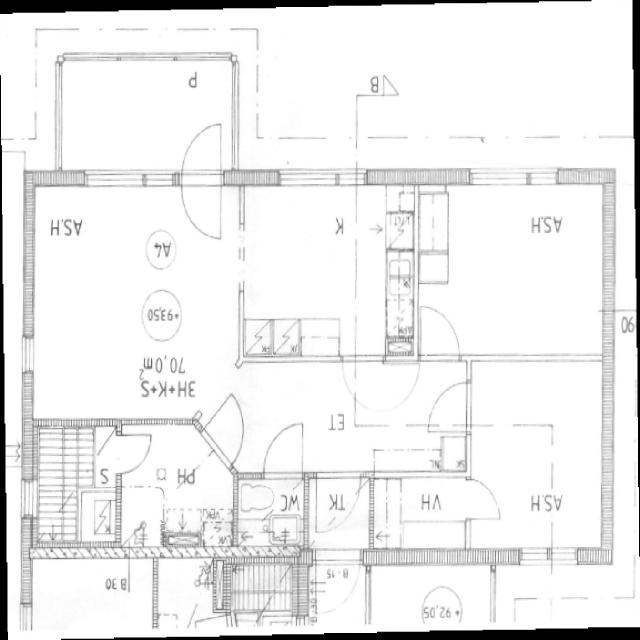door: (52, 58, 230, 174), (177, 119, 227, 243), (416, 302, 464, 367), (262, 418, 306, 485), (180, 181, 224, 245), (426, 377, 470, 437), (463, 474, 503, 524), (117, 431, 153, 476)
window: (470, 166, 562, 190), (81, 166, 147, 193), (278, 165, 343, 191), (18, 332, 38, 378), (20, 476, 38, 520), (517, 545, 551, 568)
zone: (420, 182, 612, 358), (239, 181, 398, 359), (471, 422, 560, 540), (150, 429, 235, 546), (370, 476, 470, 559), (178, 114, 227, 242), (235, 478, 309, 550), (307, 474, 371, 549), (154, 556, 214, 632), (94, 428, 151, 486), (78, 488, 119, 548)
